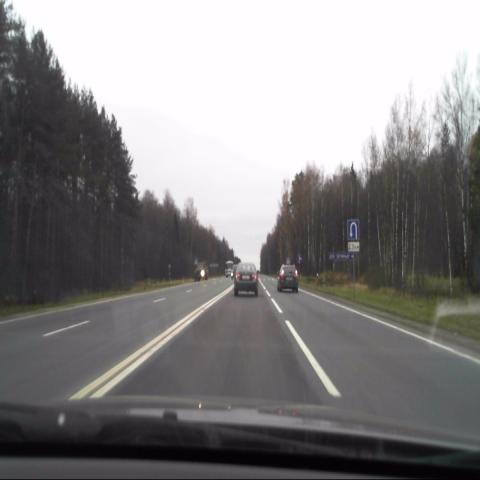6_3_1: (347, 220, 359, 240)
